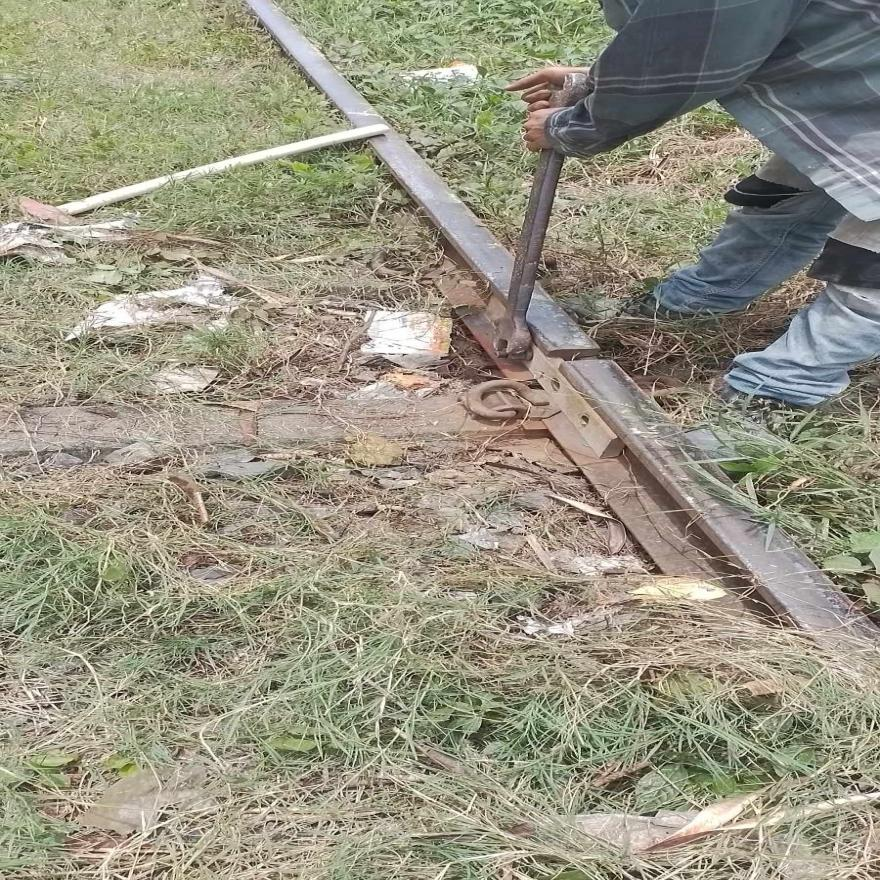railway-gap: (506, 322, 650, 389)
